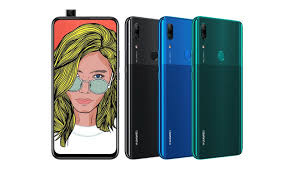huawei: (49, 15, 119, 162), (189, 14, 245, 161), (155, 15, 193, 161), (123, 15, 161, 161)
